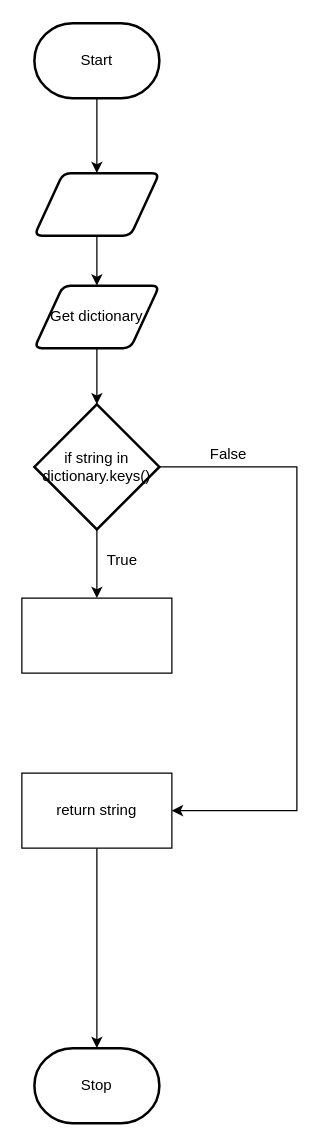
This 329x1145 diagram has some shape labels left out. The shapes that lost their labels are listed below. From the top down, each one's centre as x and y in pixels, then its label:
At [96,203]: "Get string".
At [96,635]: "string = dictionary[string]".
